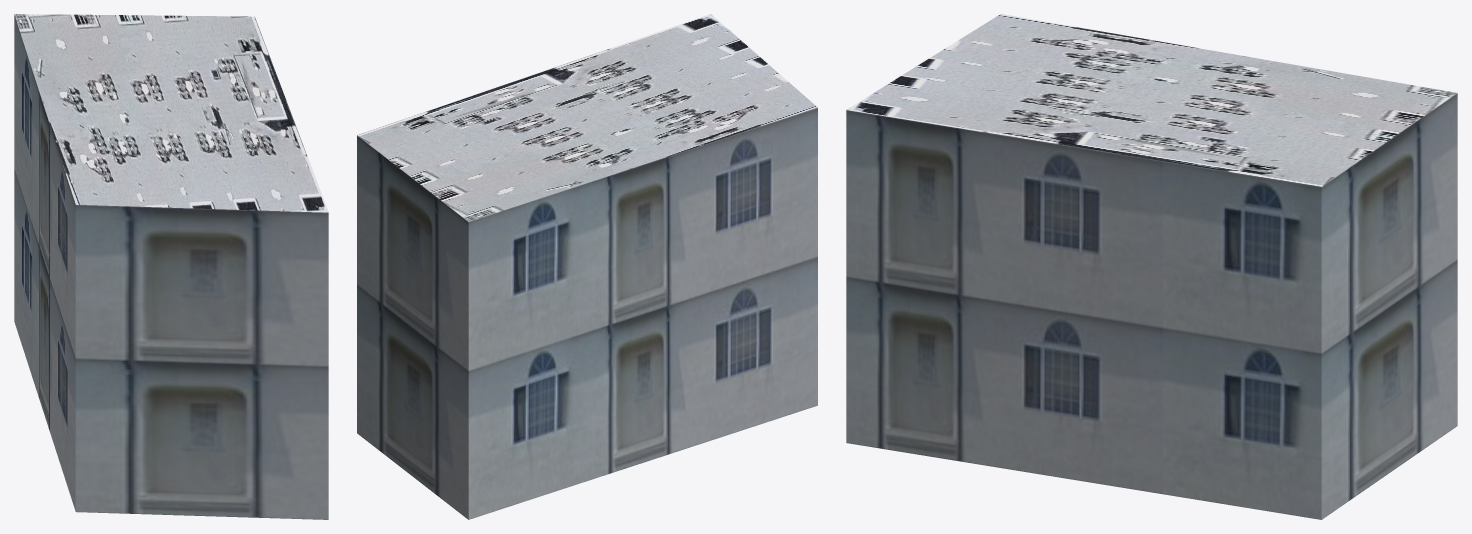
The model's file is ResTex__2417.fbx.
3 renders of one model, left to right at view 1: azimuth 30°, elevation 25°; view 2: azimuth 150°, elevation 25°; view 3: azimuth 270°, elevation 25°, orthographic. The views are drawn at different scales.
Visible parts, largest first — view 1: CityEngineMaterial_17_m, CityEngineMaterial_4_m; view 2: CityEngineMaterial_17_m, CityEngineMaterial_4_m; view 3: CityEngineMaterial_17_m, CityEngineMaterial_4_m.
Part boxes in pixels (x1,y1,x2,y2): CityEngineMaterial_17_m: [14, 15, 328, 519]; CityEngineMaterial_4_m: [14, 14, 328, 212]; CityEngineMaterial_17_m: [357, 107, 817, 519]; CityEngineMaterial_4_m: [357, 14, 817, 221]; CityEngineMaterial_17_m: [846, 93, 1457, 519]; CityEngineMaterial_4_m: [847, 14, 1456, 186].
Size of the model in its own units: 6.69 by 6 by 9.99.
2 materials, 2 textured.
